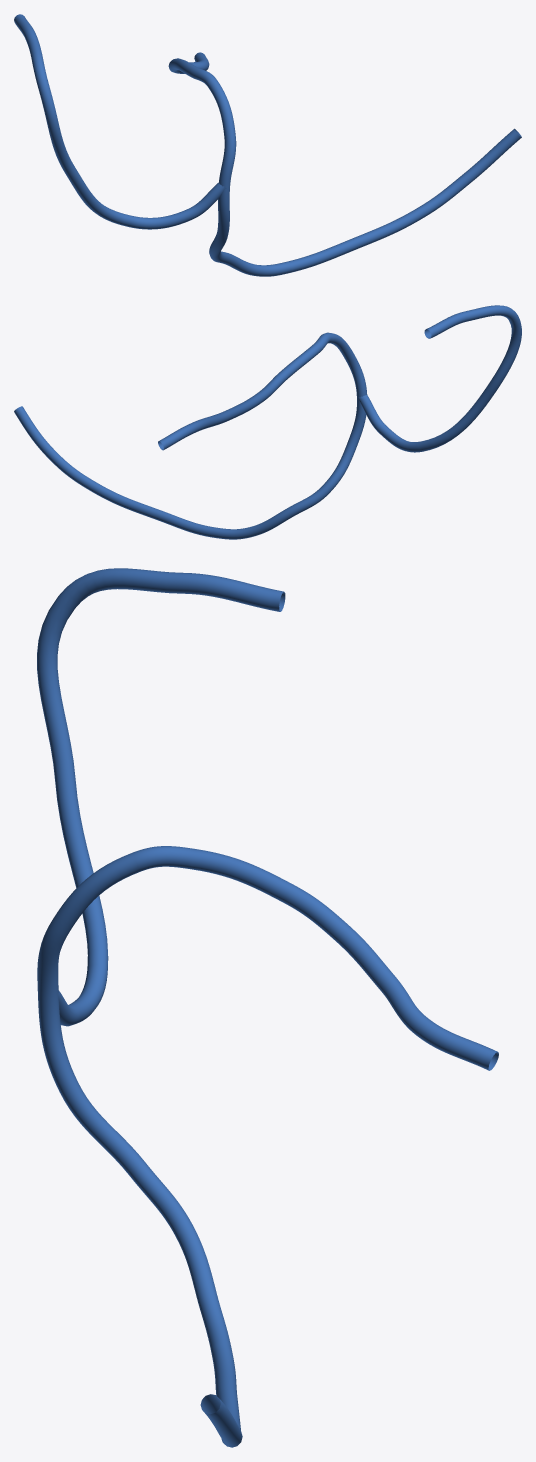
3 renders of one model, top to bottom at view 1: azimuth 30°, elevation 25°; view 2: azimuth 150°, elevation 25°; view 3: azimuth 270°, elevation 25°, orthographic. The views are drawn at different scales.
Parts seen in each view (by area): view 1: 胃网膜右静脉; view 2: 胃网膜右静脉; view 3: 胃网膜右静脉.
Part boxes in pixels (x1,y1,x2,y2): 胃网膜右静脉: [14, 14, 521, 276]; 胃网膜右静脉: [14, 305, 521, 539]; 胃网膜右静脉: [37, 568, 498, 1447].
Size of the model in its own units: 0.1515 by 0.0864 by 0.065.
